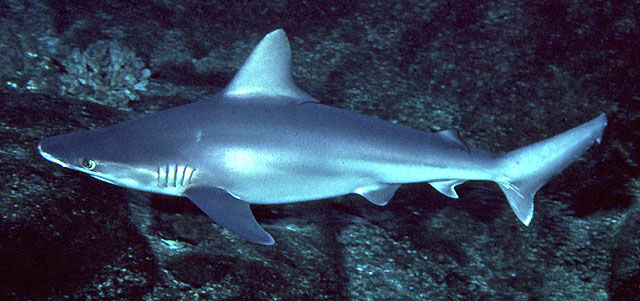fish: (37, 29, 606, 244)
